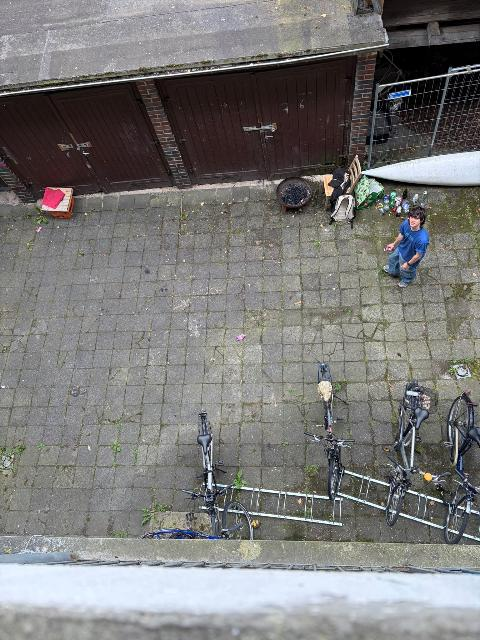can: (236, 334, 245, 340), (397, 211, 401, 217), (423, 192, 426, 199)
glass_bottle: (393, 198, 402, 211), (402, 188, 408, 199), (420, 200, 426, 208)
plastic_bottle: (374, 198, 384, 215), (384, 195, 390, 211), (403, 201, 410, 214), (390, 191, 395, 208), (413, 194, 418, 202)
